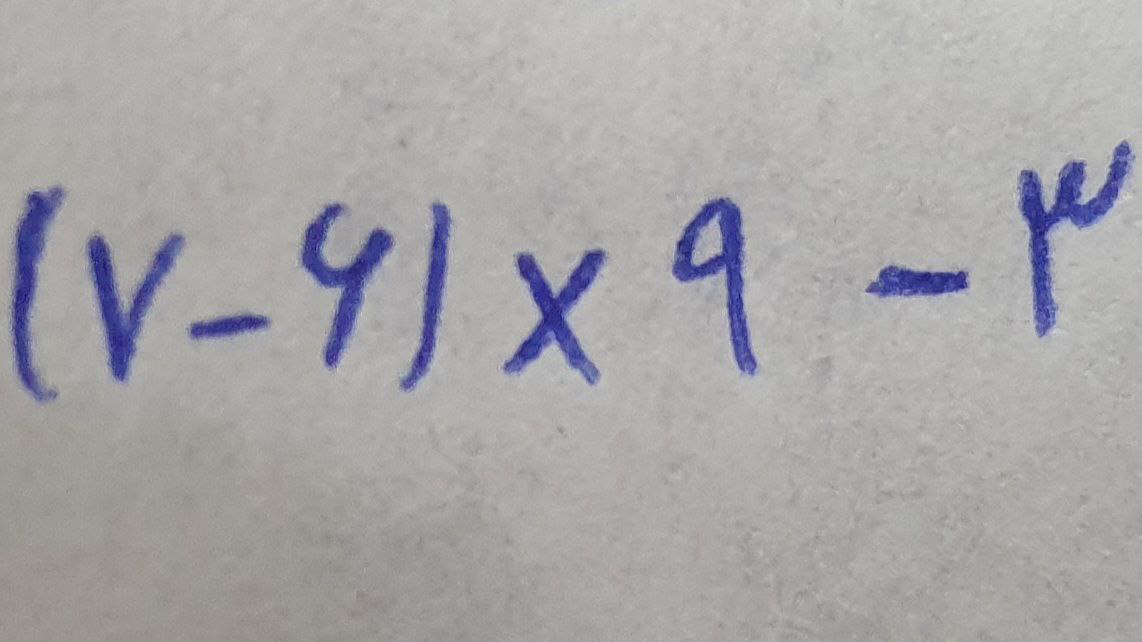character: (1018, 139, 1130, 338), (299, 201, 398, 372), (671, 197, 759, 377), (86, 231, 188, 383), (501, 248, 609, 389), (12, 183, 71, 403), (396, 200, 452, 394), (864, 263, 969, 298), (187, 312, 271, 341)
